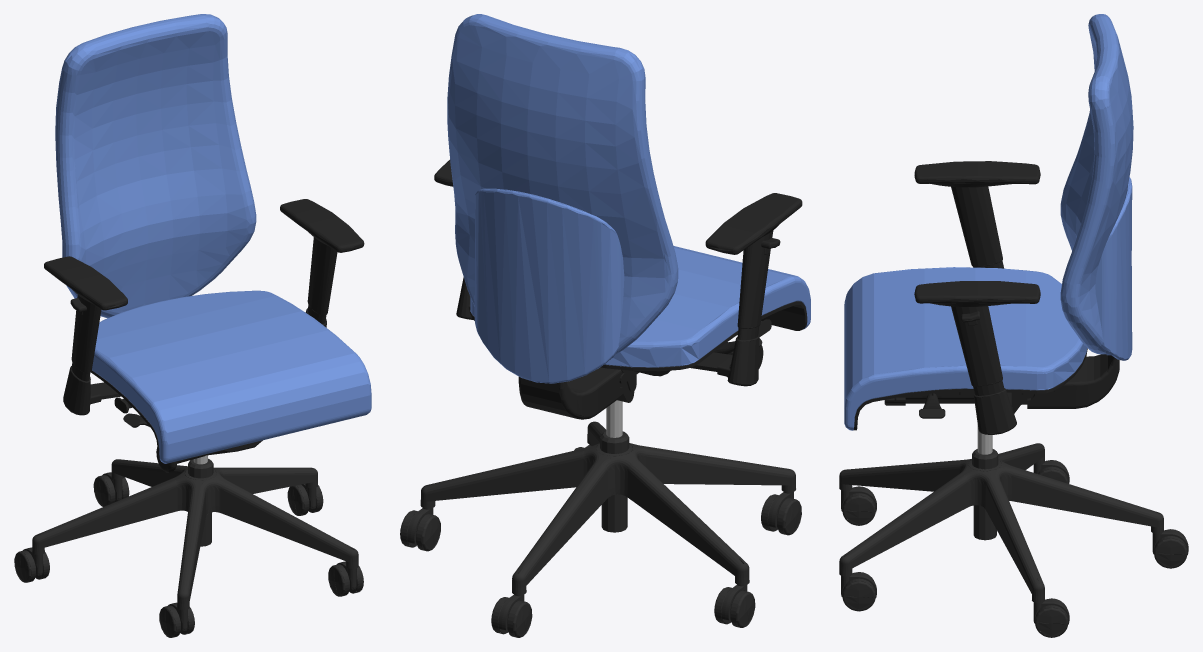
3 views of the same model, side by side, from view 1: azimuth 30°, elevation 25°; view 2: azimuth 150°, elevation 25°; view 3: azimuth 270°, elevation 25° (orthographic). The views are drawn at different scales.
Visible parts, largest first — view 1: Surf22_001, Surf14_001, Level0:NUR_001, Level0:NU2_001, Surf28_001, Surf27_001, Surf35_001, Surf29_001, Surf32_001; view 2: Surf22_001, Surf23_001, Level0:NUR_001, Surf14_001, Level0:NU2_001, Surf24_001, Surf27_001, Surf29_001, Surf15_001, Surf32_001, Surf0_001, Surf2_001; view 3: Surf14_001, Level0:NUR_001, Surf22_001, Level0:NU2_001, Surf23_001, Surf27_001, Surf28_001, Surf29_001, Surf24_001, Surf35_001, Surf38_001, Surf15_001 (+2 smaller).
Boxes of the visible parts, x1,y1,x2,y2 form: Surf22_001: (55, 14, 256, 318); Surf14_001: (92, 290, 371, 463); Level0:NUR_001: (32, 459, 358, 610); Level0:NU2_001: (14, 472, 363, 637); Surf28_001: (280, 199, 364, 252); Surf27_001: (44, 256, 127, 310); Surf35_001: (307, 237, 337, 315); Surf29_001: (71, 295, 101, 373); Surf32_001: (63, 366, 101, 415); Surf22_001: (447, 14, 678, 354); Surf23_001: (474, 188, 624, 383); Level0:NUR_001: (420, 421, 795, 595); Surf14_001: (470, 246, 810, 367); Level0:NU2_001: (400, 444, 801, 637); Surf24_001: (518, 367, 622, 419); Surf27_001: (705, 193, 802, 254); Surf29_001: (737, 230, 773, 328); Surf15_001: (470, 301, 807, 371); Surf32_001: (717, 335, 759, 386); Surf0_001: (601, 494, 627, 532); Surf2_001: (606, 400, 622, 437); Surf14_001: (844, 267, 1087, 430); Level0:NUR_001: (839, 443, 1163, 602); Surf22_001: (1060, 14, 1133, 354); Level0:NU2_001: (841, 460, 1188, 637); Surf23_001: (1095, 177, 1132, 360); Surf27_001: (914, 161, 1040, 187); Surf28_001: (914, 281, 1040, 306); Surf29_001: (951, 186, 1002, 266); Surf24_001: (1027, 354, 1119, 408); Surf35_001: (951, 306, 1002, 386); Surf38_001: (974, 388, 1016, 434); Surf15_001: (854, 348, 1087, 430).
Size of the model in its own units: 26.31 by 42.44 by 25.96.
